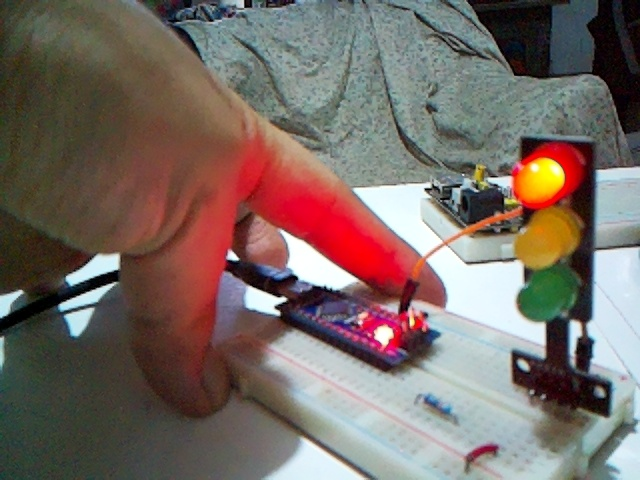traffic_light_red: (514, 136, 598, 401)
